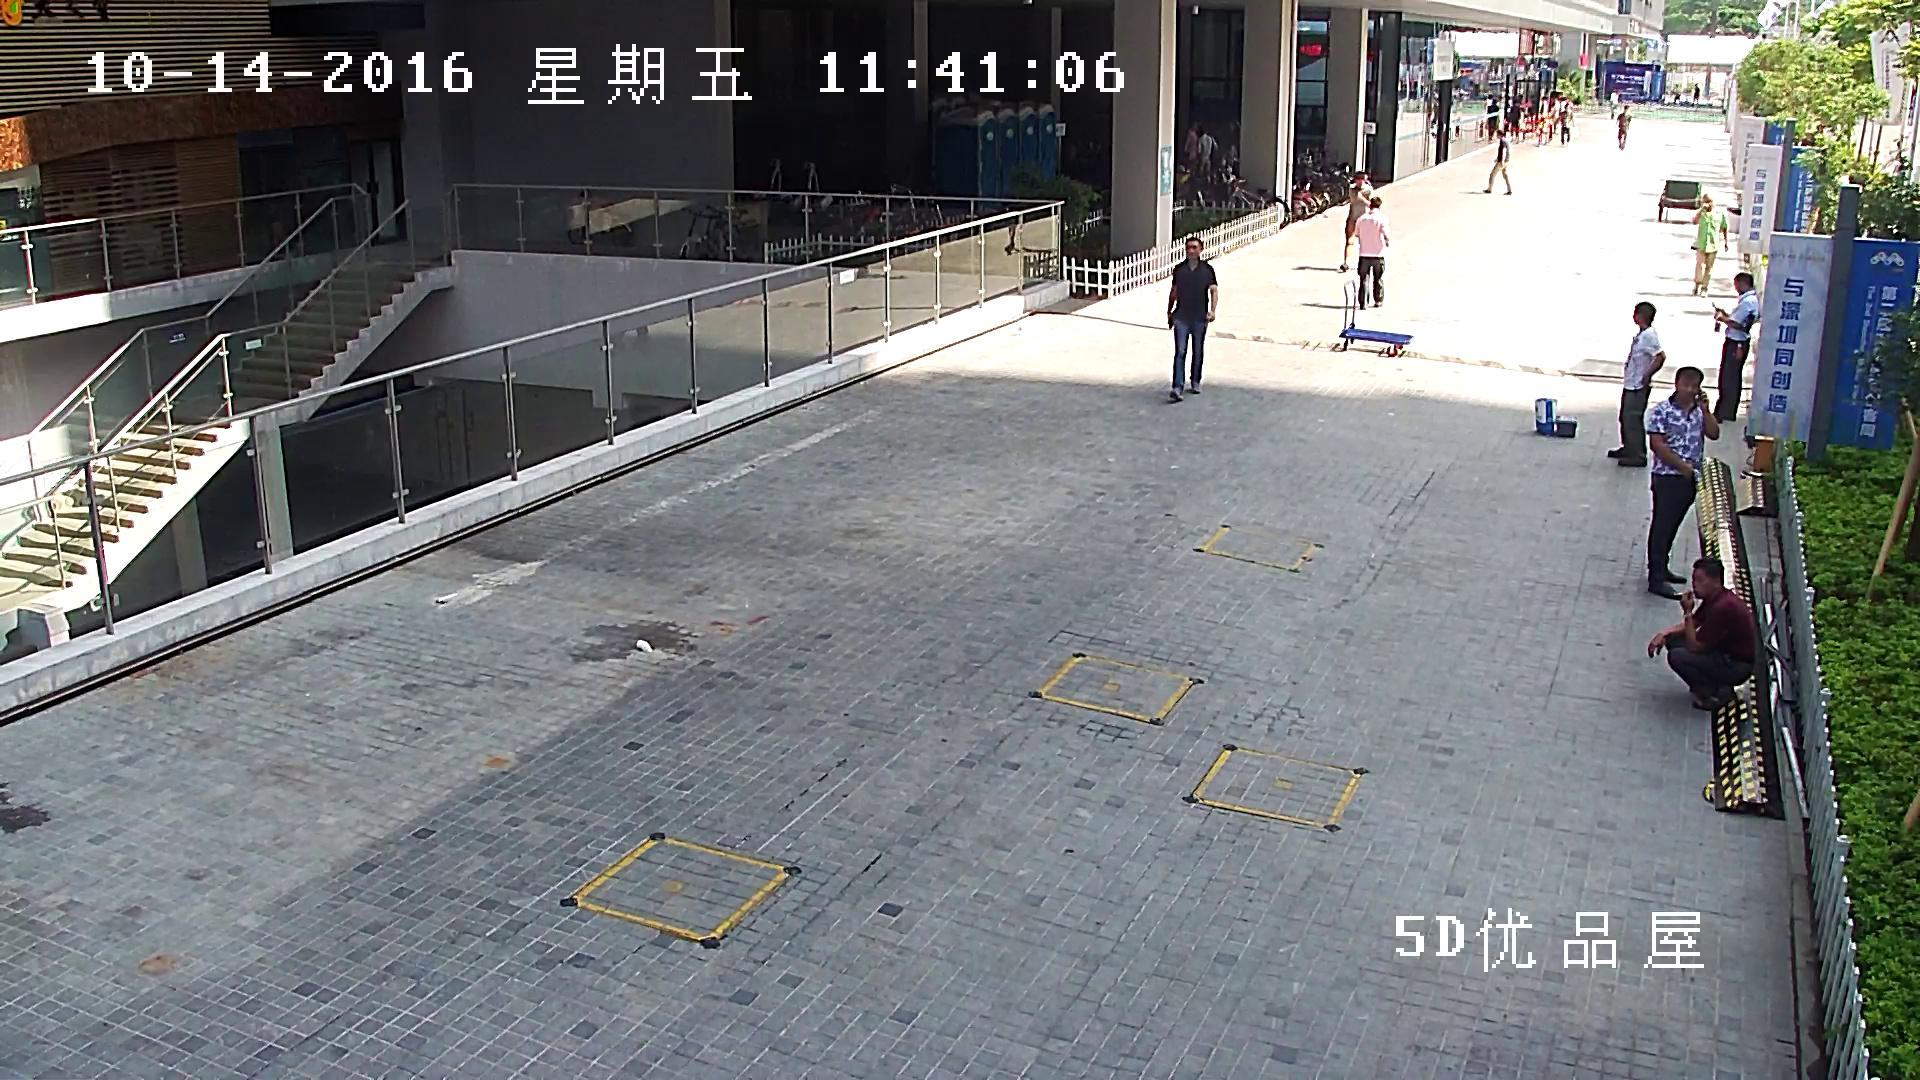person: (1648, 366, 1720, 600), (1648, 558, 1754, 711), (1608, 302, 1665, 467), (1167, 237, 1218, 401), (1712, 272, 1759, 423), (1354, 197, 1388, 310), (1690, 193, 1728, 296), (1340, 171, 1372, 272), (1483, 129, 1511, 194), (1196, 127, 1217, 174), (1616, 105, 1630, 149), (1560, 104, 1574, 144), (1183, 122, 1196, 160), (1487, 98, 1498, 141), (1510, 100, 1520, 143), (1610, 89, 1618, 118), (1692, 83, 1699, 104), (1673, 83, 1680, 102)
